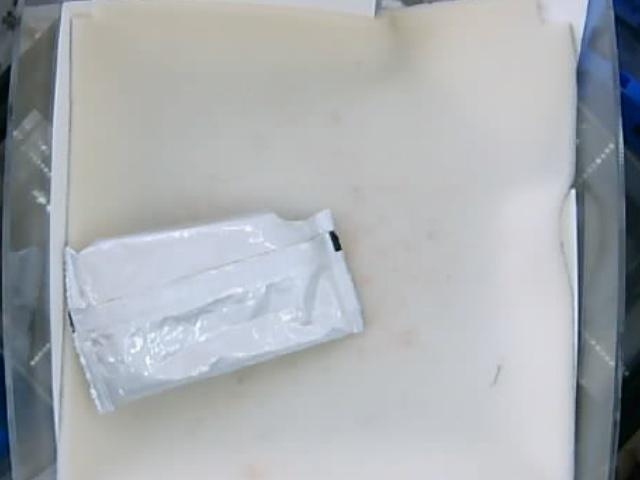Medicine: (55, 207, 362, 409)
